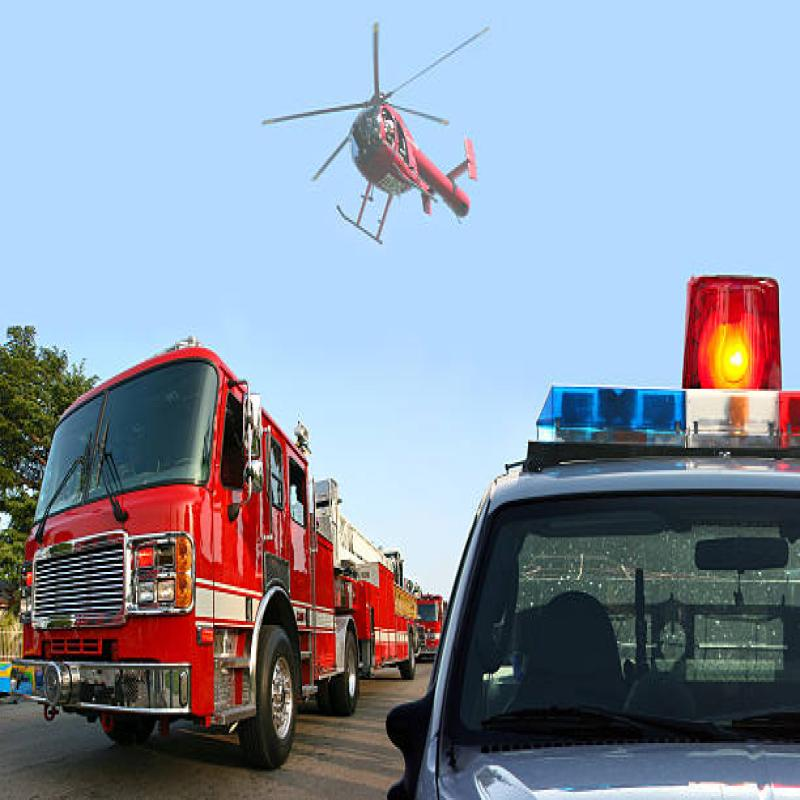AmbulanceSiren: (534, 374, 800, 496), (668, 255, 798, 466)
